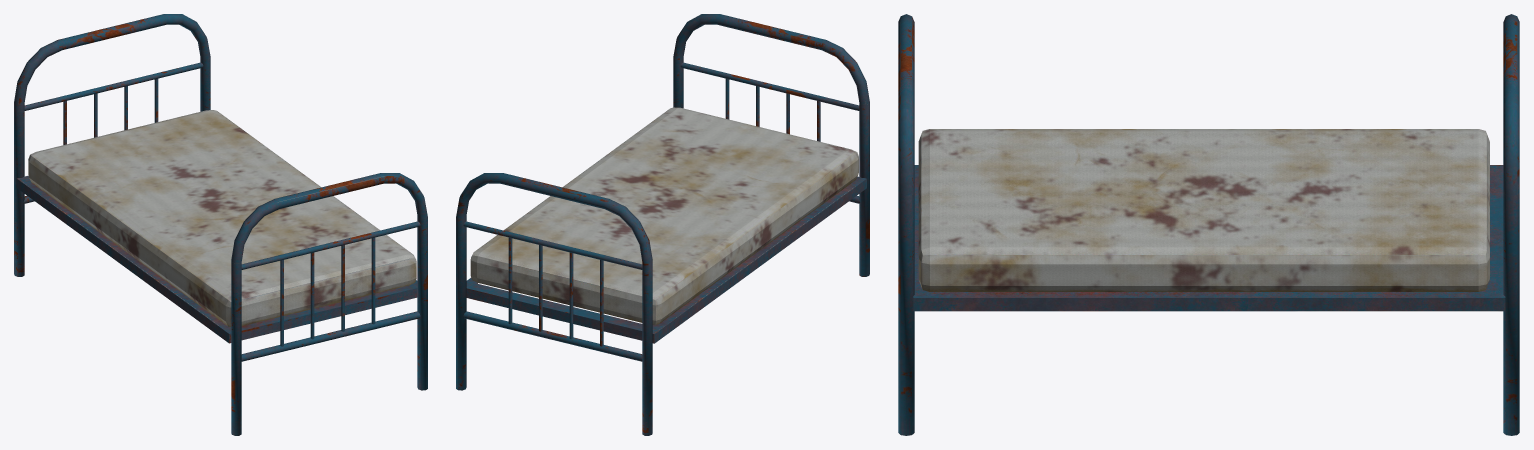
Rendered from SingleBed.glb.
3 views of the same model, side by side, from view 1: azimuth 30°, elevation 25°; view 2: azimuth 150°, elevation 25°; view 3: azimuth 270°, elevation 25° (orthographic). The views are drawn at different scales.
Visible parts, largest first — view 1: Low; view 2: Low; view 3: Low.
Part boxes in pixels (x1,y1,x2,y2): Low: (14, 14, 427, 435); Low: (456, 14, 869, 435); Low: (898, 14, 1519, 435).
Bounding box in the file's own units: 1.86 × 2.05 × 3.68.
Materials: 1 (1 with a texture image).
